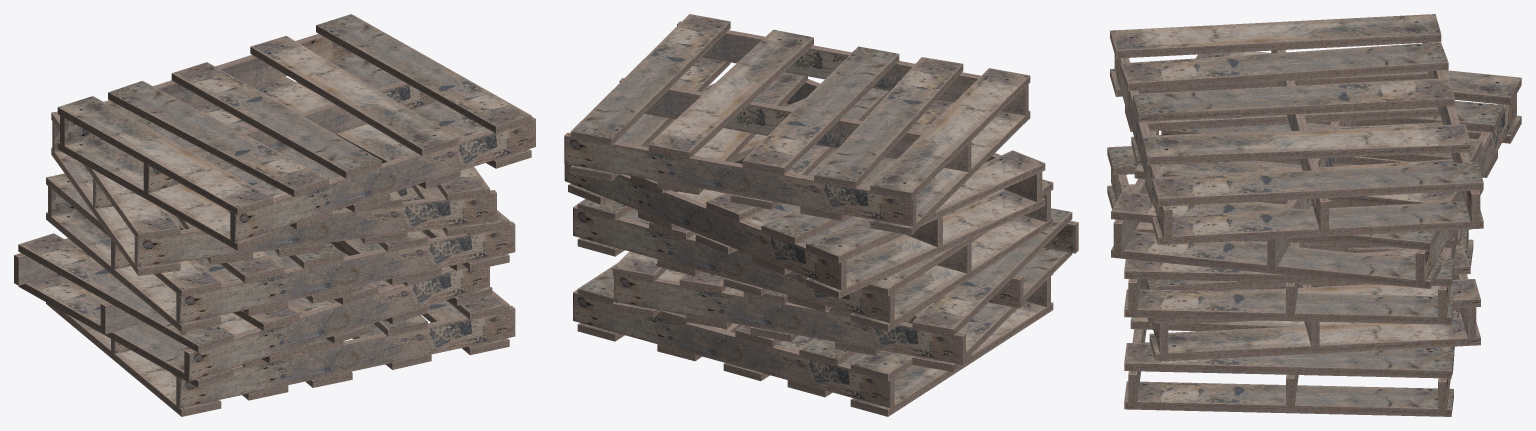
File: Palet_v1_set (2).001.glb
3 views of the same model, side by side, from view 1: azimuth 30°, elevation 25°; view 2: azimuth 150°, elevation 25°; view 3: azimuth 270°, elevation 25° (orthographic). The views are drawn at different scales.
Parts seen in each view (by area): view 1: Palet_v1_set (2).001; view 2: Palet_v1_set (2).001; view 3: Palet_v1_set (2).001.
Part boxes in pixels (box(x1,y1,x2,y2)): Palet_v1_set (2).001: box(14, 14, 535, 416); Palet_v1_set (2).001: box(564, 14, 1078, 416); Palet_v1_set (2).001: box(1107, 14, 1521, 416).
Bounding box in the file's own units: 2.16 × 1.08 × 1.76.
1 material, 1 textured.
